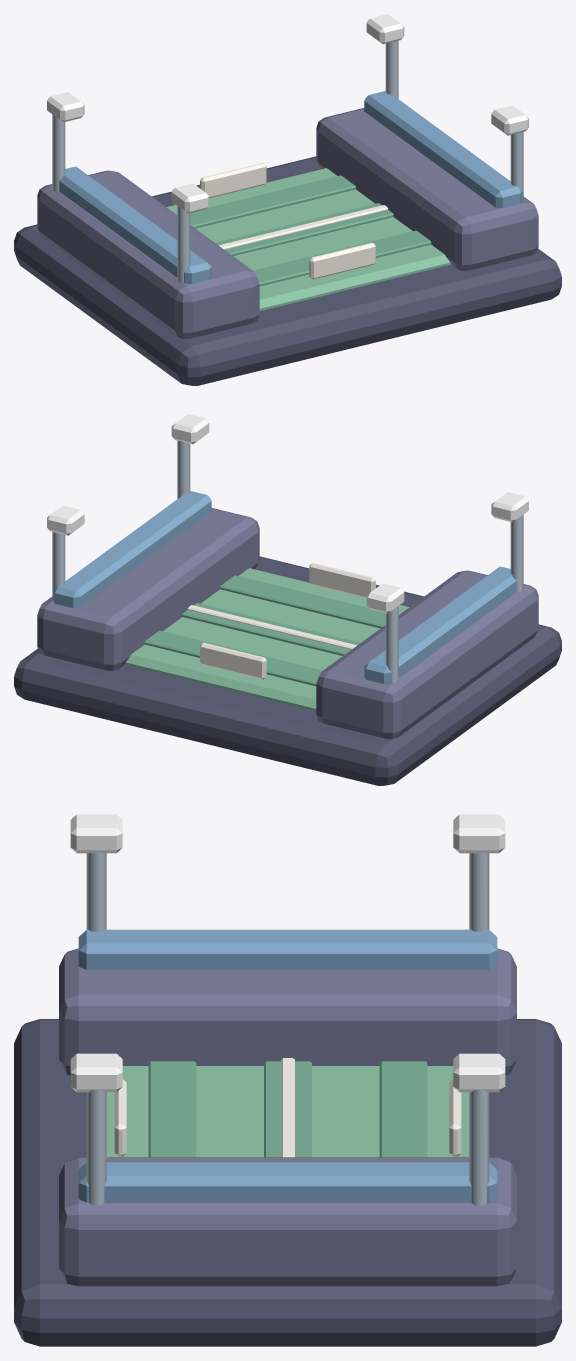
File: academy.fbx
The picture shows the model from 3 angles, top to bottom: view 1: azimuth 30°, elevation 25°; view 2: azimuth 150°, elevation 25°; view 3: azimuth 270°, elevation 25°; orthographic projection. The views are drawn at different scales.
Visible parts, largest first — view 1: academy; view 2: academy; view 3: academy.
Part boxes in pixels (x1,y1,x2,y2): academy: [14, 14, 561, 385]; academy: [14, 414, 561, 785]; academy: [14, 814, 561, 1346].
Bounding box in the file's own units: 3.4 × 1.51 × 2.75.
